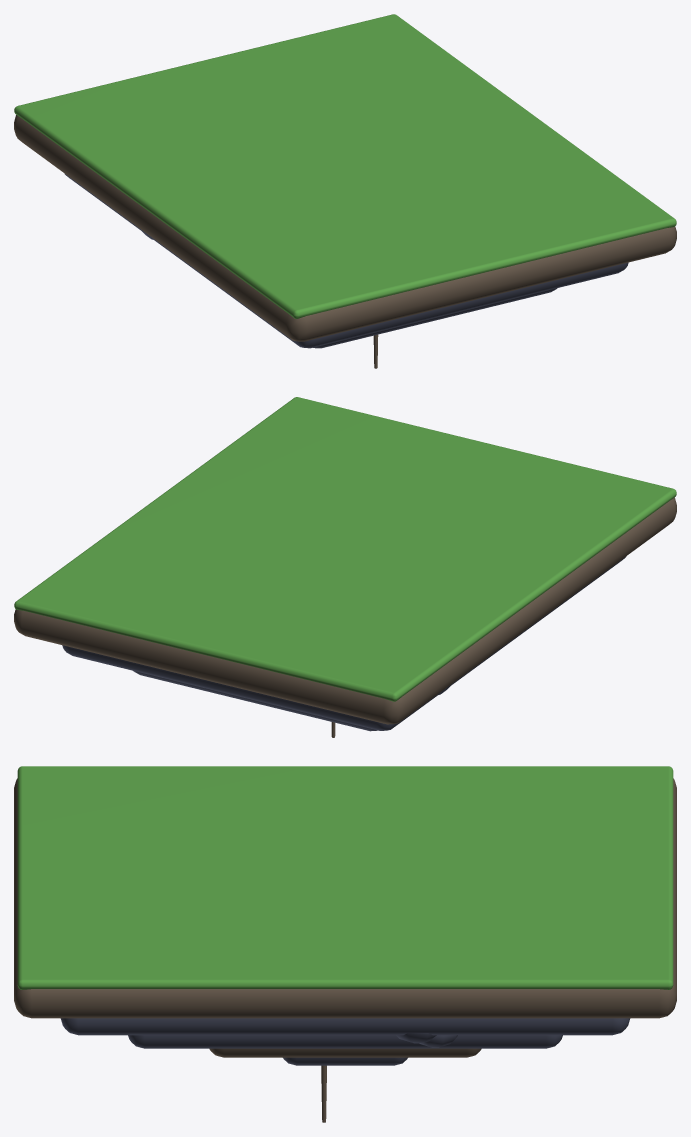
File: island_v2.glb
3 renders of one model, top to bottom at view 1: azimuth 30°, elevation 25°; view 2: azimuth 150°, elevation 25°; view 3: azimuth 270°, elevation 25°, orthographic. The views are drawn at different scales.
Visible parts, largest first — view 1: Cube; view 2: Cube; view 3: Cube.
Boxes of the visible parts, box(x1,y1,x2,y2) form: Cube: box(14, 14, 676, 368); Cube: box(14, 397, 676, 737); Cube: box(14, 766, 676, 1122).
Size of the model in its own units: 7.32 by 3.68 by 9.32.
